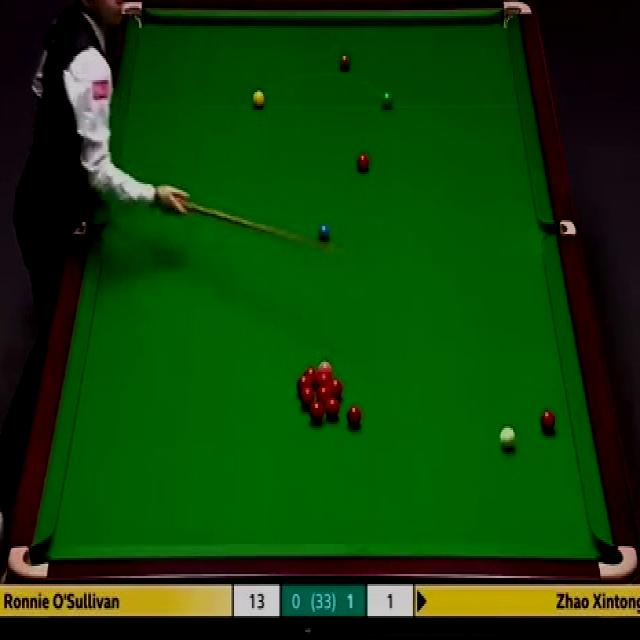blue-ball: (316, 223, 331, 246)
brown-ball: (338, 54, 351, 72)
green-ball: (380, 90, 394, 108)
pink-ball: (316, 356, 330, 369)
red-ball: (539, 409, 555, 436), (346, 406, 362, 430), (354, 152, 370, 175), (324, 396, 340, 418), (299, 386, 314, 409), (311, 396, 324, 418), (331, 378, 344, 399), (296, 376, 310, 390), (305, 369, 317, 385), (319, 370, 330, 386), (317, 388, 331, 398)
white-ball: (499, 425, 516, 450)
yellow-ball: (252, 89, 264, 109)
